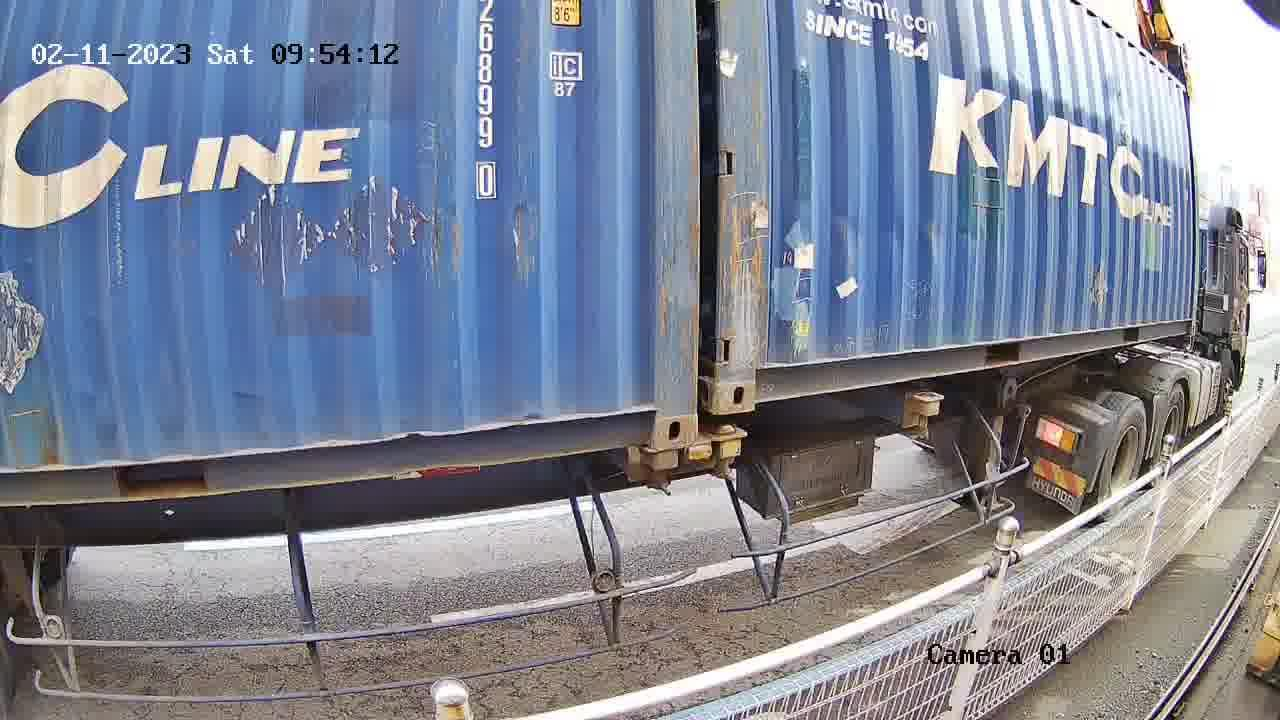Cone: (709, 424, 744, 482), (646, 447, 680, 498)
Hole_L: (713, 340, 791, 414)
Hole_R: (619, 377, 697, 451)
Tire: (1099, 399, 1149, 519), (1153, 388, 1183, 485)
